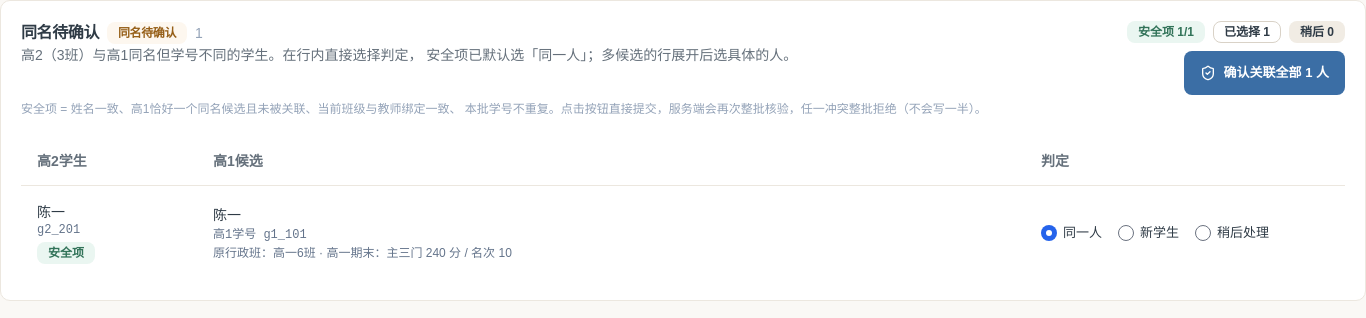
Scenario: AmbiguousBatchCard 行内批量确认 › 全部安全也只看当前决定：改成稍后/新学生后按钮退回「确认已选择的 N 人」
Expected: the button "确认关联全部 1 人" is shown, top-left (1184, 51), bottom-right (1345, 95)
Click the radio button with id "confirm-g2_201-later" at (1203, 232), box top-left (1195, 224), bottom-right (1211, 240)
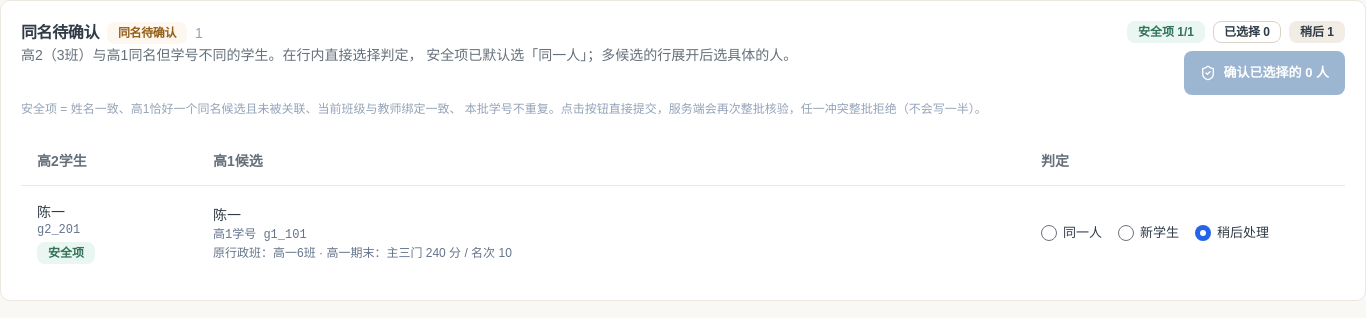
Expected: the text "安全项 1/1" is shown, top-left (1127, 21), bottom-right (1205, 43)
Now the button "确认已选择的 0 人" is shown, box top-left (1184, 51), bottom-right (1345, 95)
Click the radio button with id "confirm-g2_201-new" at (1126, 232), box top-left (1118, 224), bottom-right (1134, 240)
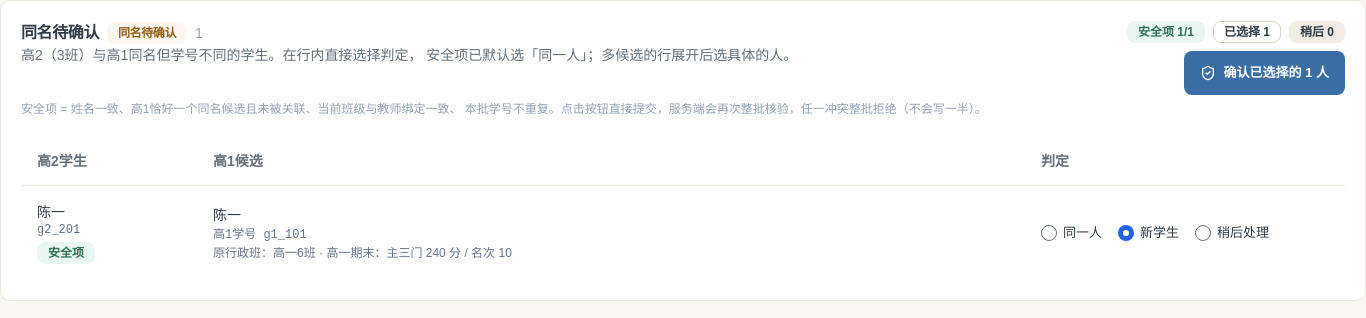
Now the button "确认已选择的 1 人" is shown, box top-left (1184, 51), bottom-right (1345, 95)
